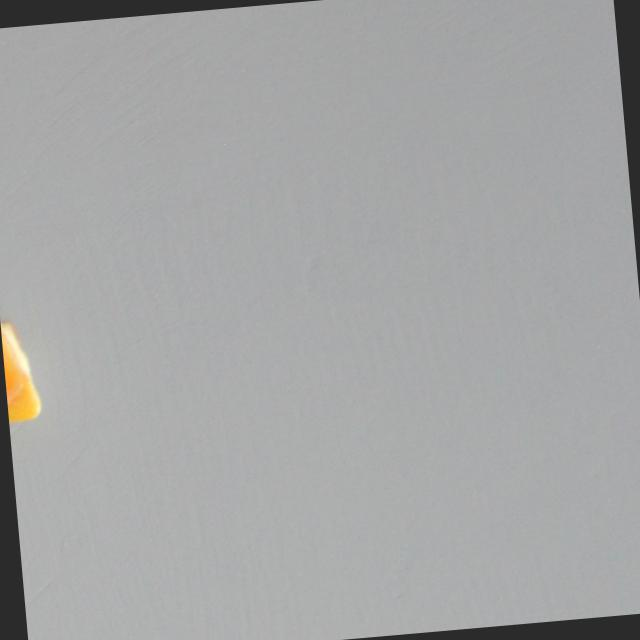pelicula: (0, 314, 44, 425)
